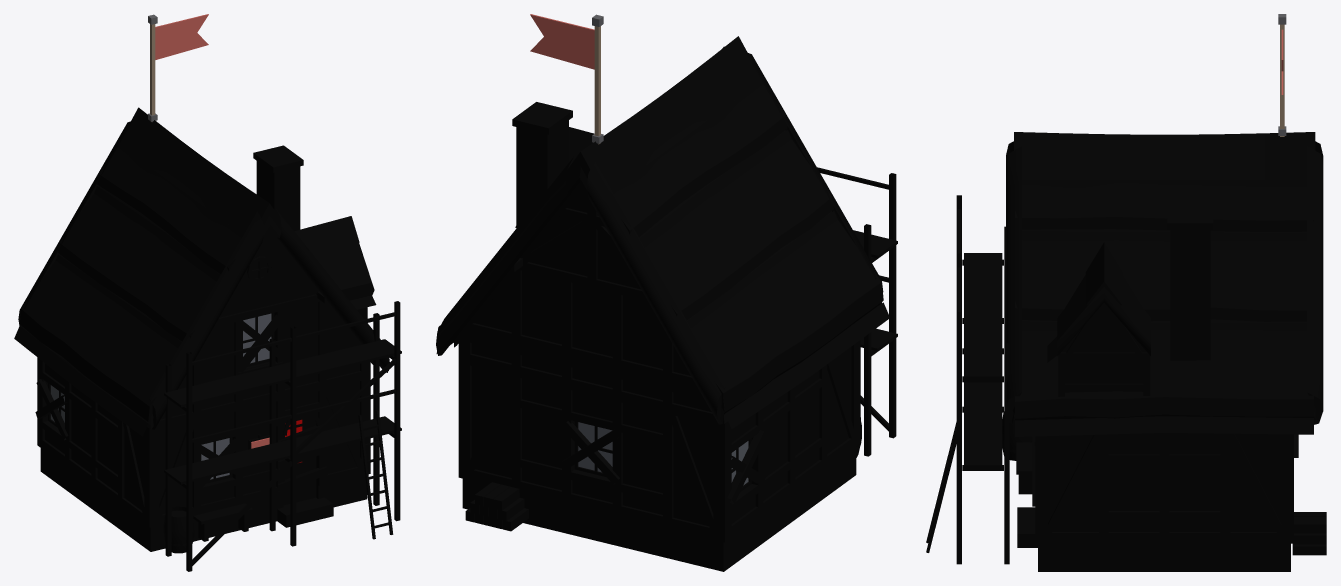
Rendered from wohnhaus_halbling_s1_g1.glb.
3 views of the same model, side by side, from view 1: azimuth 30°, elevation 25°; view 2: azimuth 150°, elevation 25°; view 3: azimuth 270°, elevation 25° (orthographic). The views are drawn at different scales.
Visible parts, largest first — view 1: Dach, Haus, Geruest, Leerstand, Fahne, Scheiben; view 2: Haus, Dach, Geruest, Fahne, Leerstand, Scheiben; view 3: Dach, Haus, Geruest, Fahne.
Boxes of the visible parts, x1=… form: Dach: x1=14, y1=107, x2=389, y2=436; Haus: x1=37, y1=145, x2=370, y2=553; Geruest: x1=164, y1=301, x2=401, y2=571; Leerstand: x1=35, y1=313, x2=327, y2=492; Fahne: x1=148, y1=14, x2=208, y2=121; Scheiben: x1=50, y1=313, x2=271, y2=479; Haus: x1=458, y1=102, x2=861, y2=571; Dach: x1=436, y1=36, x2=889, y2=429; Geruest: x1=817, y1=167, x2=897, y2=456; Fahne: x1=530, y1=14, x2=603, y2=144; Leerstand: x1=561, y1=421, x2=766, y2=503; Scheiben: x1=578, y1=422, x2=748, y2=485; Dach: x1=1006, y1=132, x2=1323, y2=436; Haus: x1=1002, y1=206, x2=1326, y2=571; Geruest: x1=926, y1=195, x2=1009, y2=564; Fahne: x1=1278, y1=14, x2=1286, y2=136.
Bounding box in the file's own units: 5.83 × 9.51 × 6.96.
